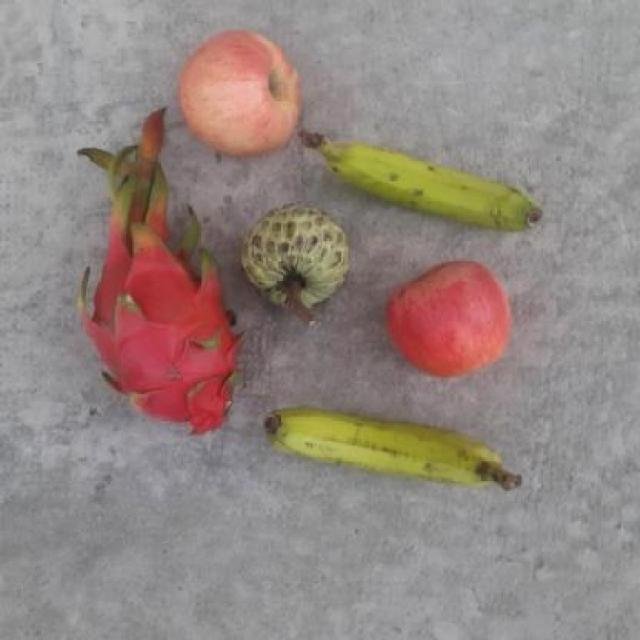apple: (172, 26, 303, 156), (385, 256, 512, 376)
banana: (300, 120, 538, 231), (260, 399, 526, 493)
dragon fruit: (67, 195, 238, 432)
sugar apple: (237, 196, 351, 312)
